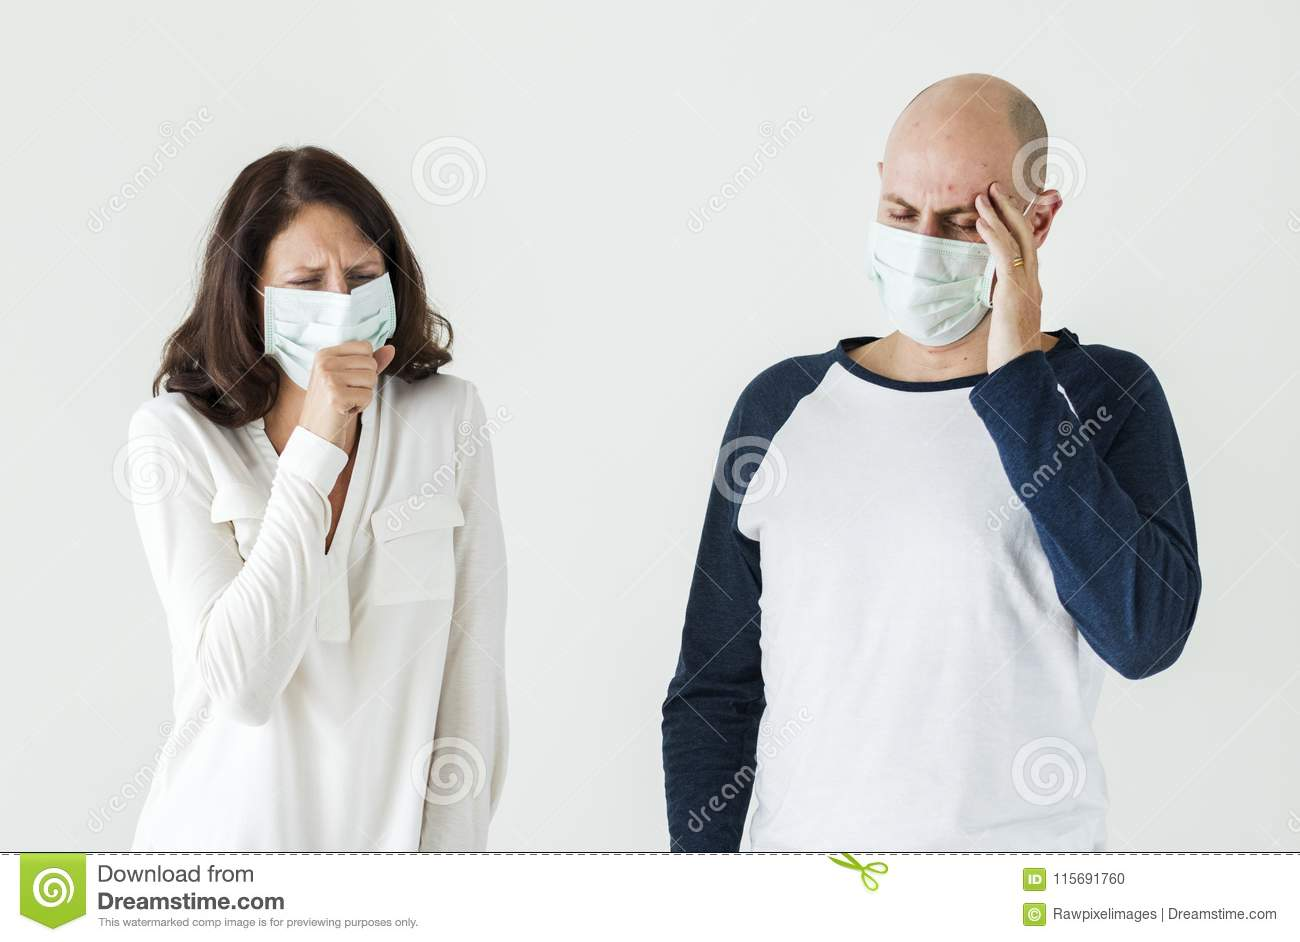mask: (864, 217, 1009, 345), (260, 285, 421, 382)
